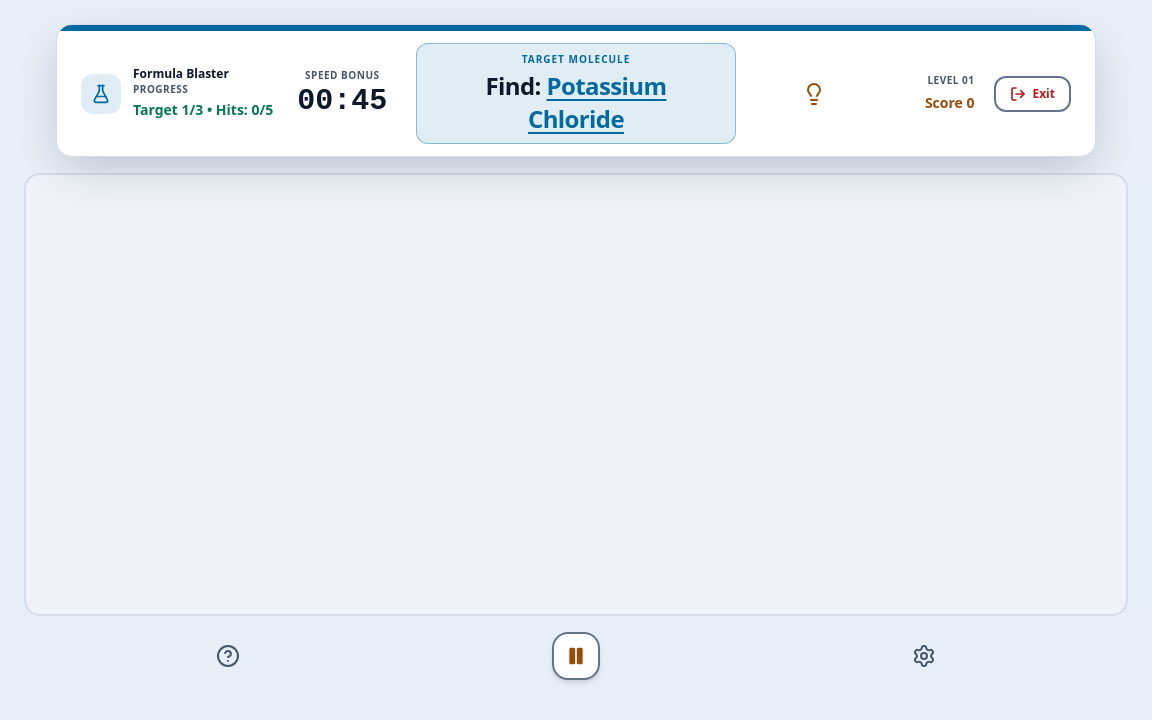
Test: Formula Blaster page (game flow) › opening the instructions pauses the game and closing resumes it
Click the button titled "How to Play" at (228,656), box x1=208 y1=636 x2=248 y2=676
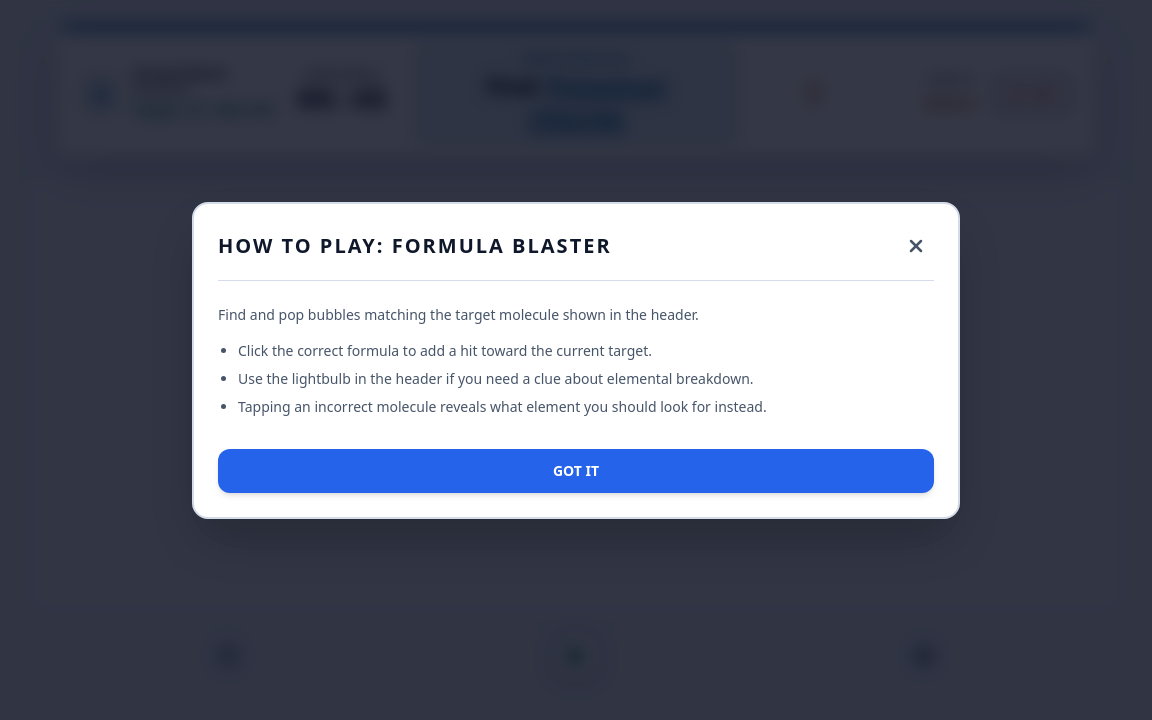
Expected: the heading "How to Play: Formula Blaster" is shown, x1=218 y1=232 x2=612 y2=260
Click the button "GOT IT" at (576,470), box x1=218 y1=448 x2=934 y2=492
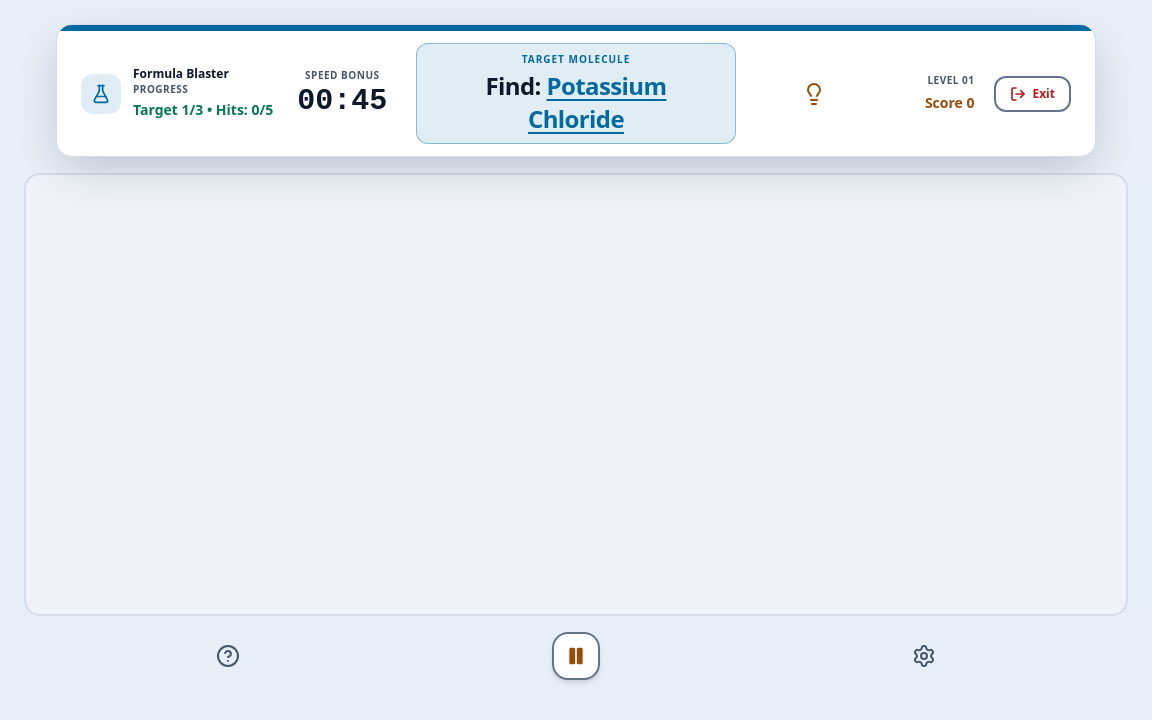
Expected: the heading "How to Play: Formula Blaster" is gone
Expected: the button titled "Pause Game" is shown, x1=552 y1=632 x2=600 y2=680
